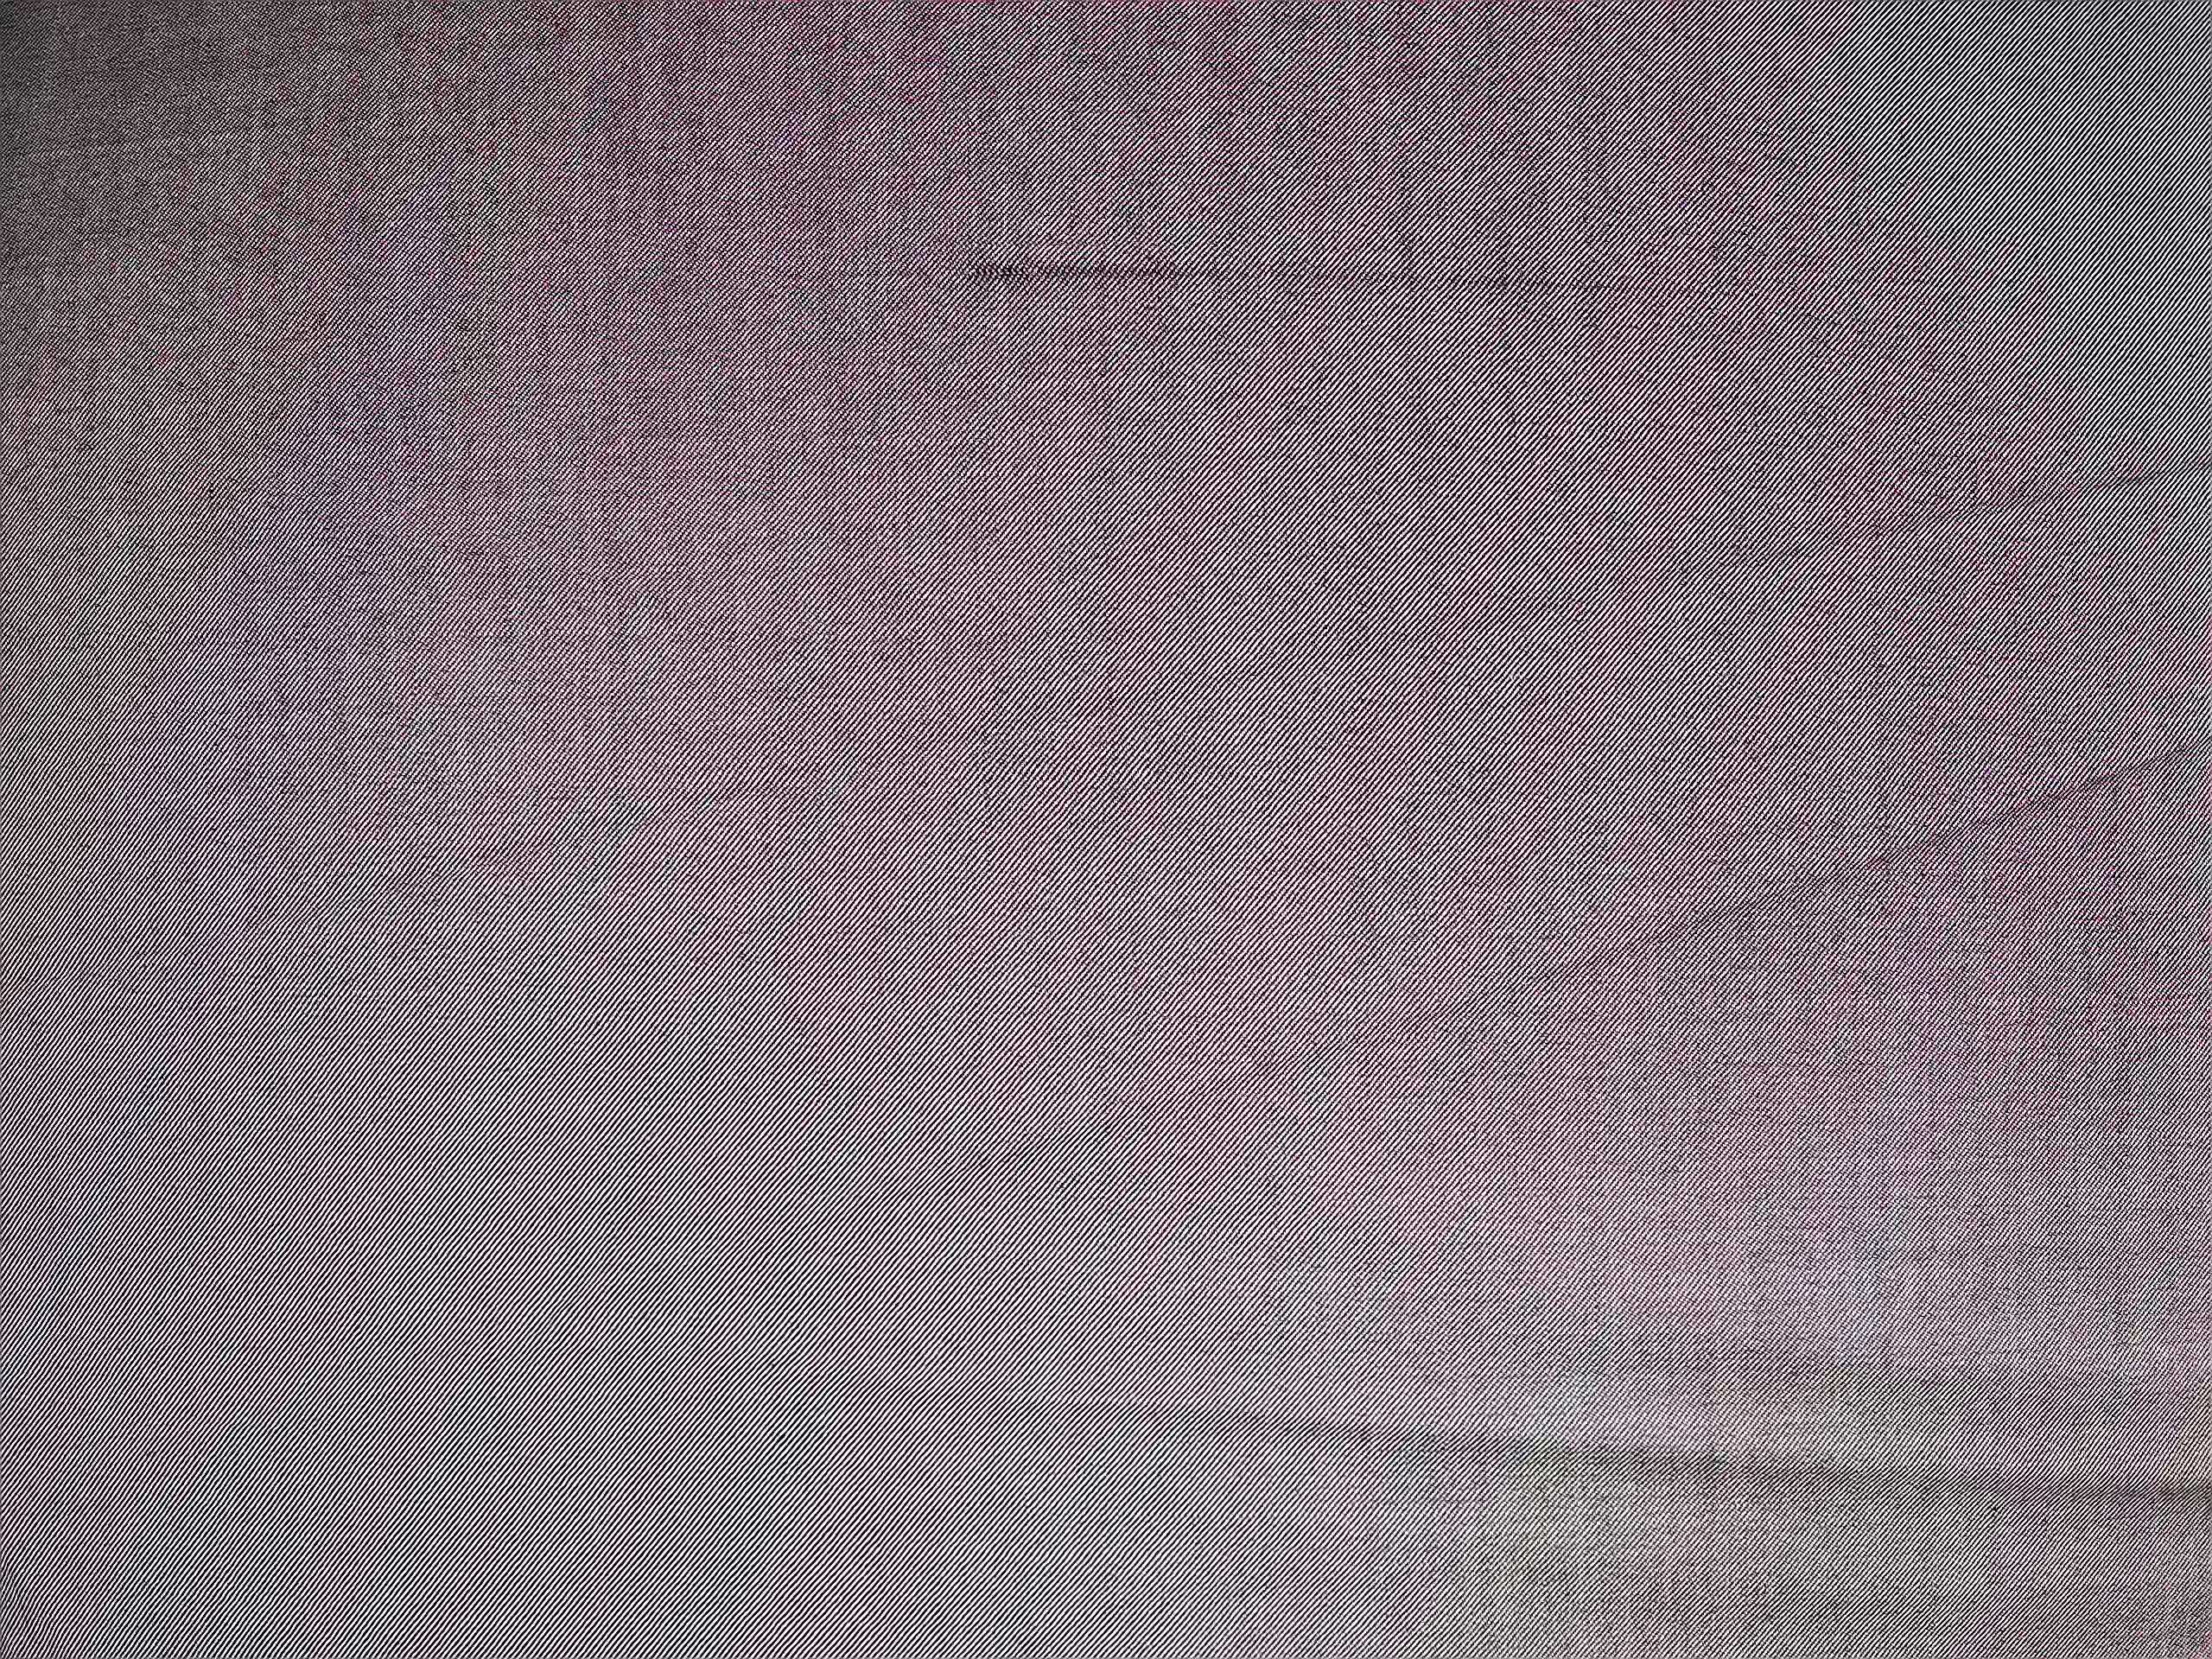thin-spinning: (932, 239, 1216, 305)
